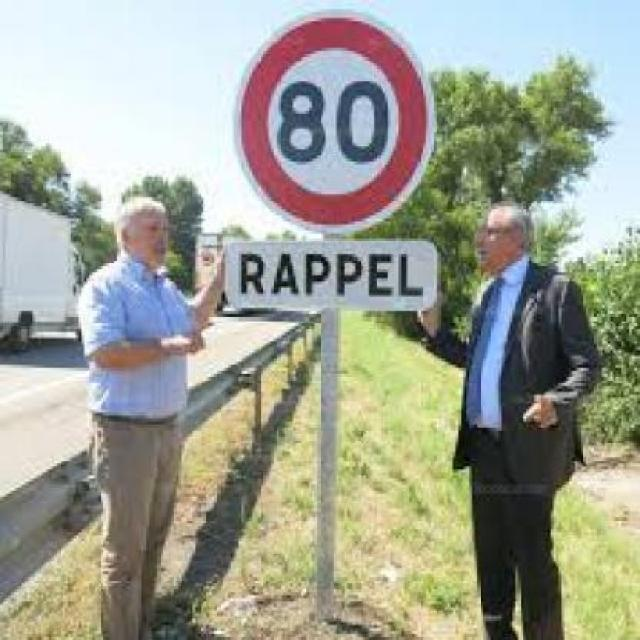forb_speed_over_80: (245, 10, 428, 228)
